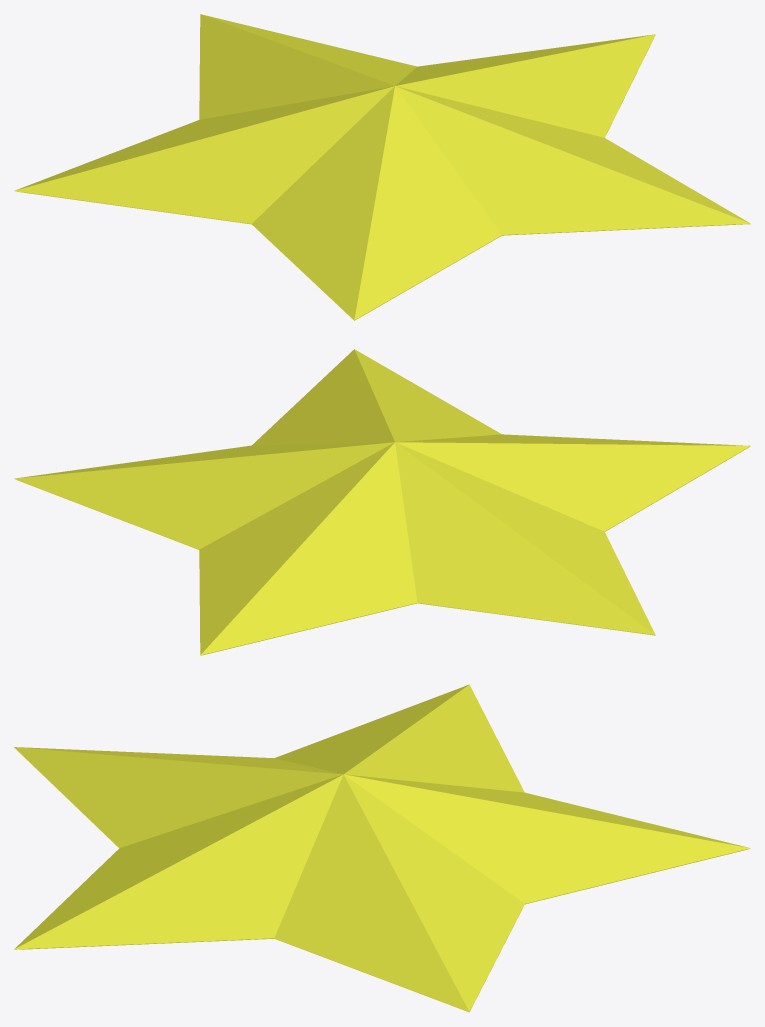
Rendered from star.fbx.
3 views of the same model, one above another, from view 1: azimuth 30°, elevation 25°; view 2: azimuth 150°, elevation 25°; view 3: azimuth 270°, elevation 25° (orthographic). The views are drawn at different scales.
Parts seen in each view (by area): view 1: 円, 円.001; view 2: 円, 円.001; view 3: 円, 円.001.
Boxes of the visible parts, x1=… form: 円: x1=14, y1=14, x2=750, y2=320; 円.001: x1=14, y1=35, x2=749, y2=320; 円: x1=14, y1=349, x2=749, y2=655; 円.001: x1=14, y1=446, x2=750, y2=655; 円: x1=14, y1=684, x2=750, y2=1011; 円.001: x1=14, y1=748, x2=750, y2=1012.
Size of the model in its own units: 190 by 40.14 by 181.
